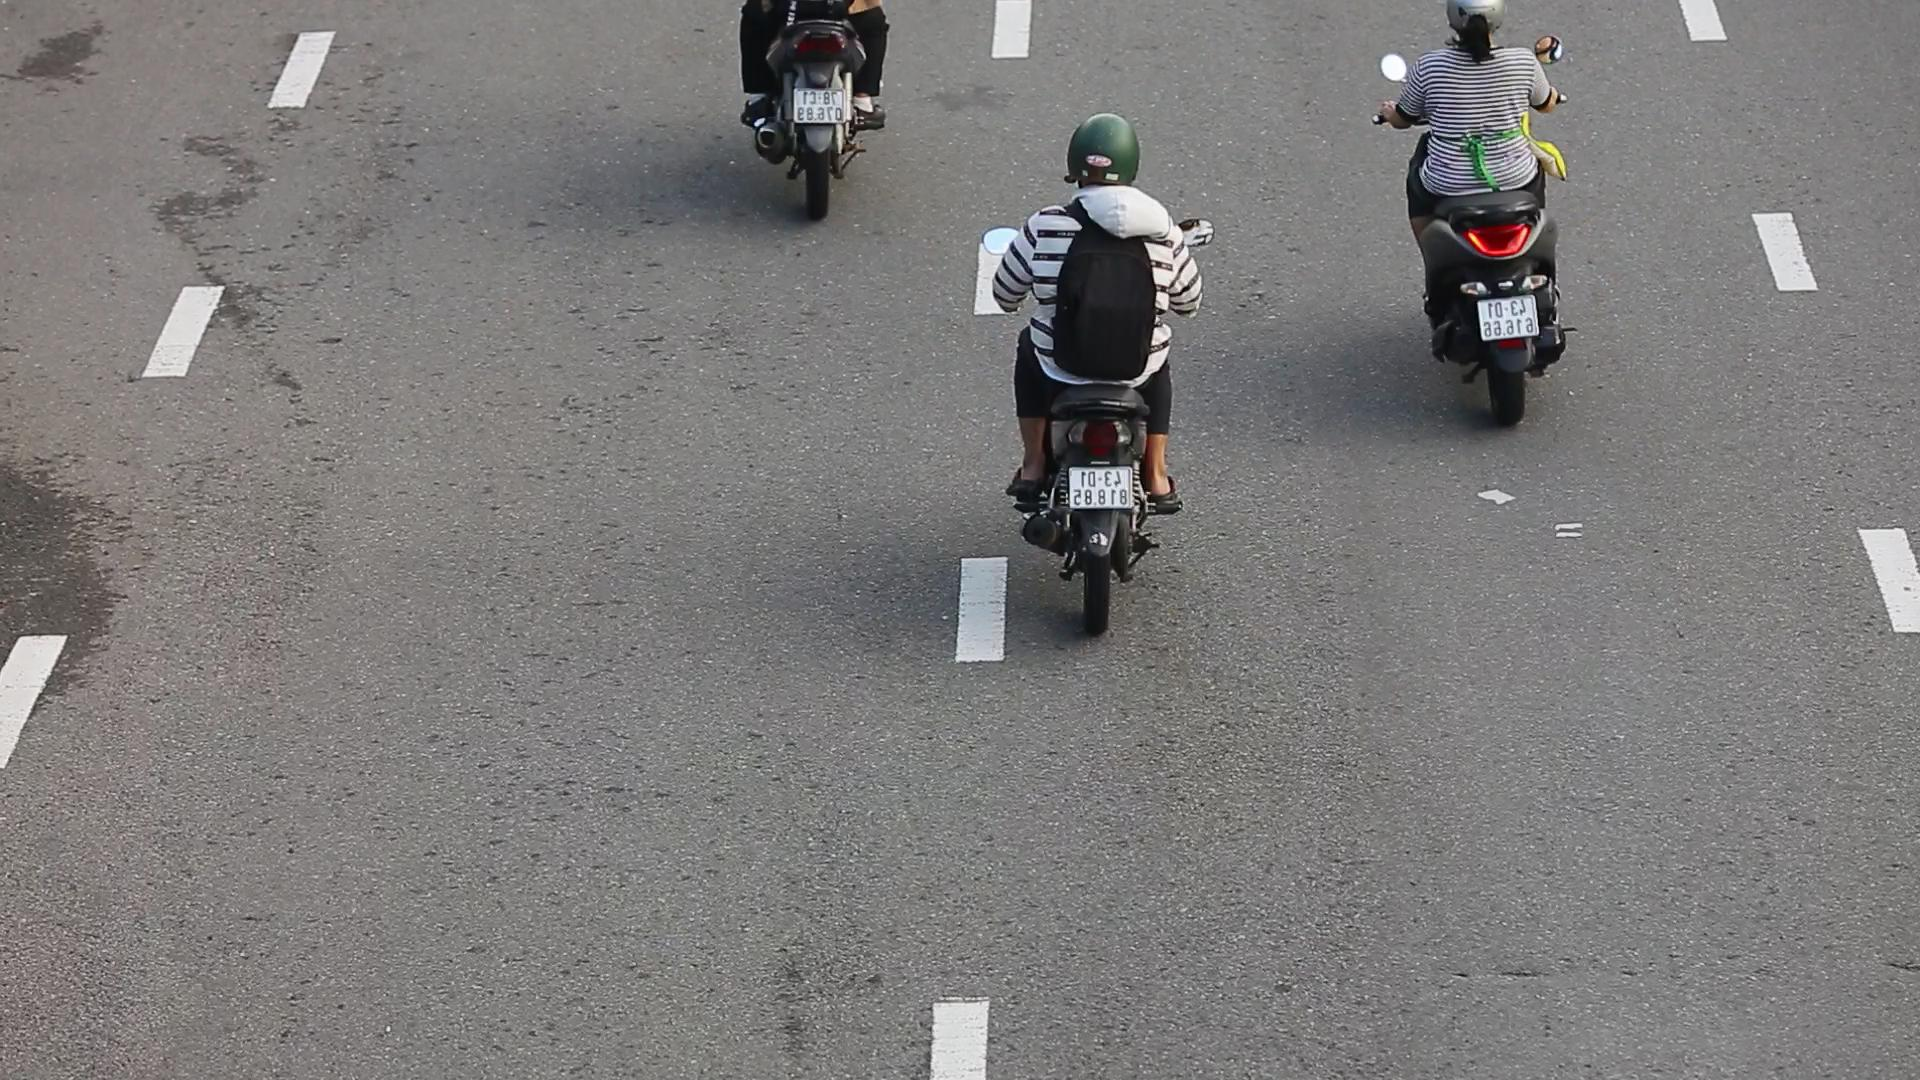motobike: (981, 115, 1215, 641)
